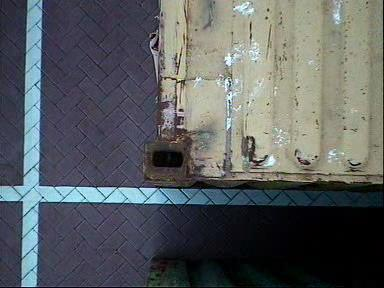groundmarker_2: (134, 18, 222, 85)
